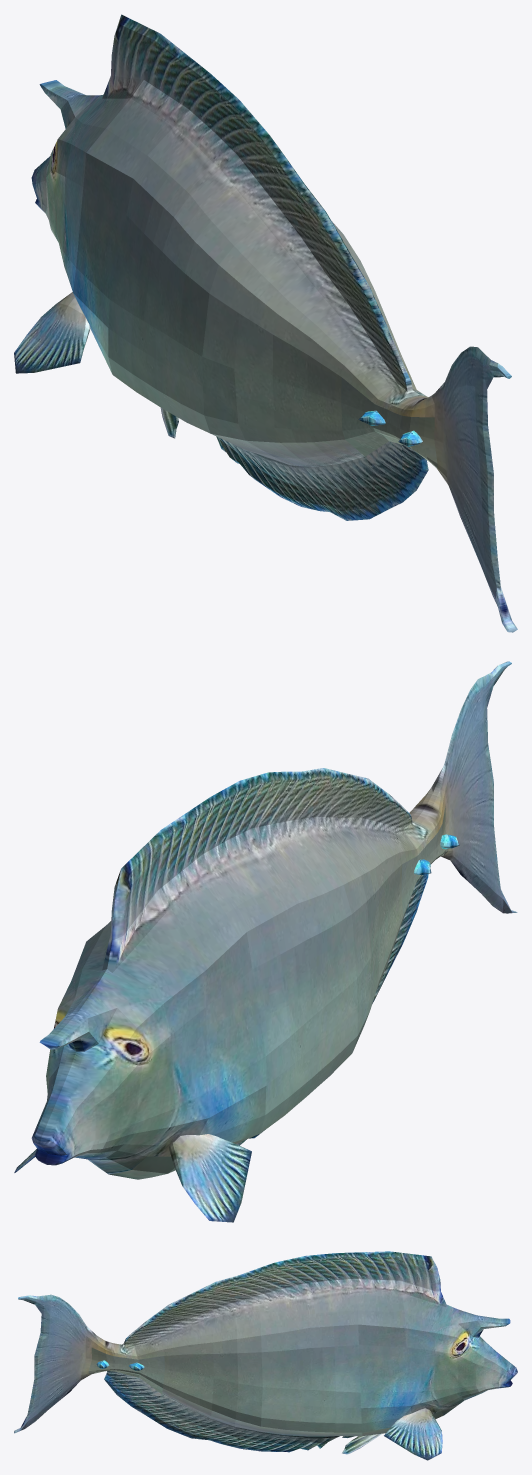
File: naso-unicornis.glb
3 renders of one model, top to bottom at view 1: azimuth 30°, elevation 25°; view 2: azimuth 150°, elevation 25°; view 3: azimuth 270°, elevation 25°, orthographic. The views are drawn at different scales.
Parts seen in each view (by area): view 1: naso_unicornis, pectoral.l; view 2: naso_unicornis, pectoral.l; view 3: naso_unicornis, pectoral.r, pelvic.r.
Boxes of the visible parts, left/top/right/bottom form: naso_unicornis: left=31, top=14, right=517, bottom=632; pectoral.l: left=14, top=292, right=90, bottom=373; naso_unicornis: left=31, top=661, right=517, bottom=1179; pectoral.l: left=169, top=1134, right=251, bottom=1222; naso_unicornis: left=14, top=1251, right=517, bottom=1452; pectoral.r: left=384, top=1408, right=442, bottom=1460; pelvic.r: left=342, top=1433, right=381, bottom=1454.
Bounding box in the file's own units: 15.9 × 26.31 × 59.82.
Materials: 1 (1 with a texture image).
